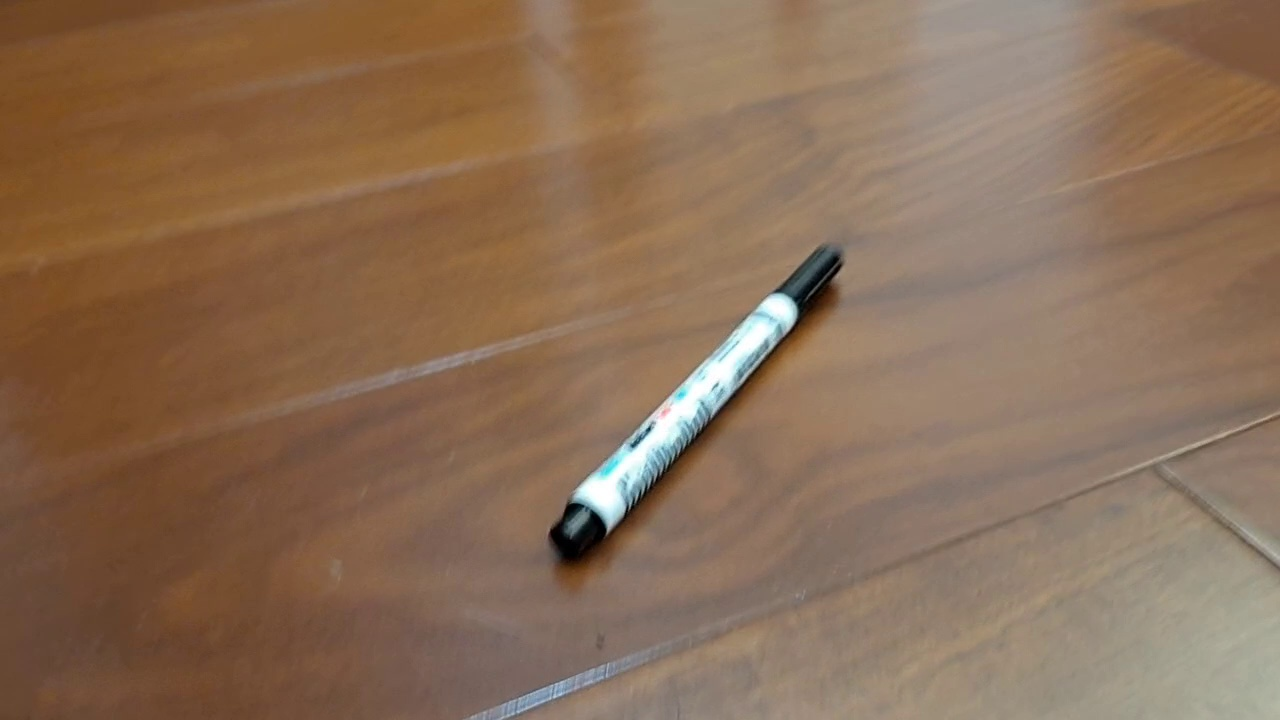pen: (547, 243, 845, 563)
